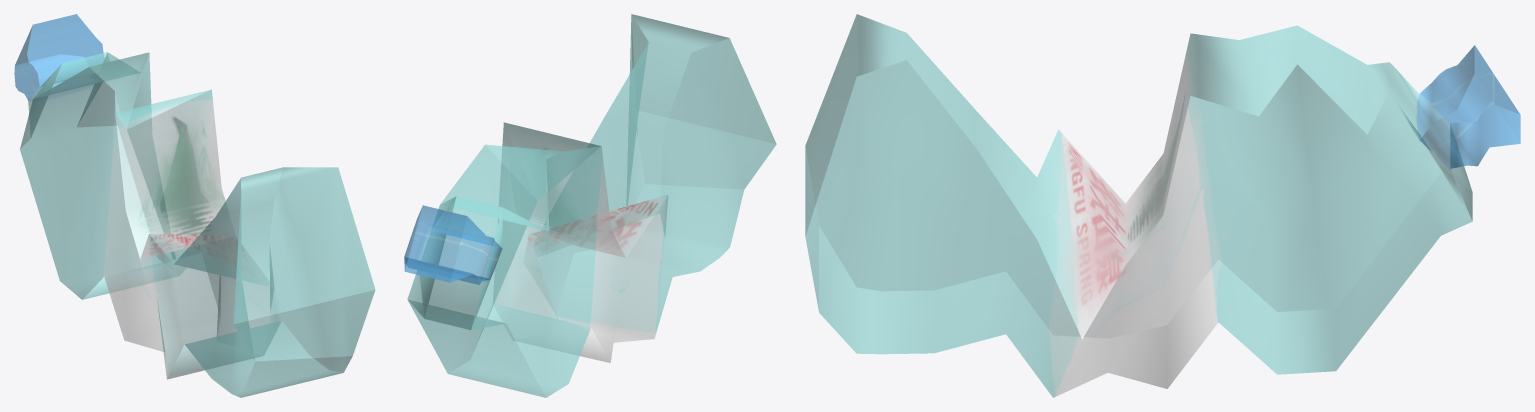
Rendered from bottle.fbx.
3 views of the same model, side by side, from view 1: azimuth 30°, elevation 25°; view 2: azimuth 150°, elevation 25°; view 3: azimuth 270°, elevation 25° (orthographic). The views are drawn at different scales.
Visible parts, largest first — view 1: pCube1; view 2: pCube1; view 3: pCube1.
Boxes of the visible parts, x1,y1,x2,y2 form: pCube1: (14, 14, 375, 397); pCube1: (404, 14, 776, 397); pCube1: (805, 14, 1520, 397).
Bounding box in the file's own units: 1.47 × 2.34 × 4.73.
